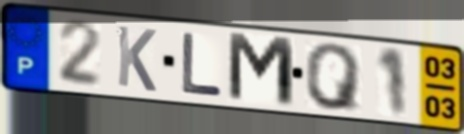1: (374, 46, 410, 120)
2: (56, 18, 104, 91)
K: (115, 23, 159, 95)
L: (179, 30, 226, 98)
M: (224, 29, 299, 111)
Q: (302, 41, 365, 114)
